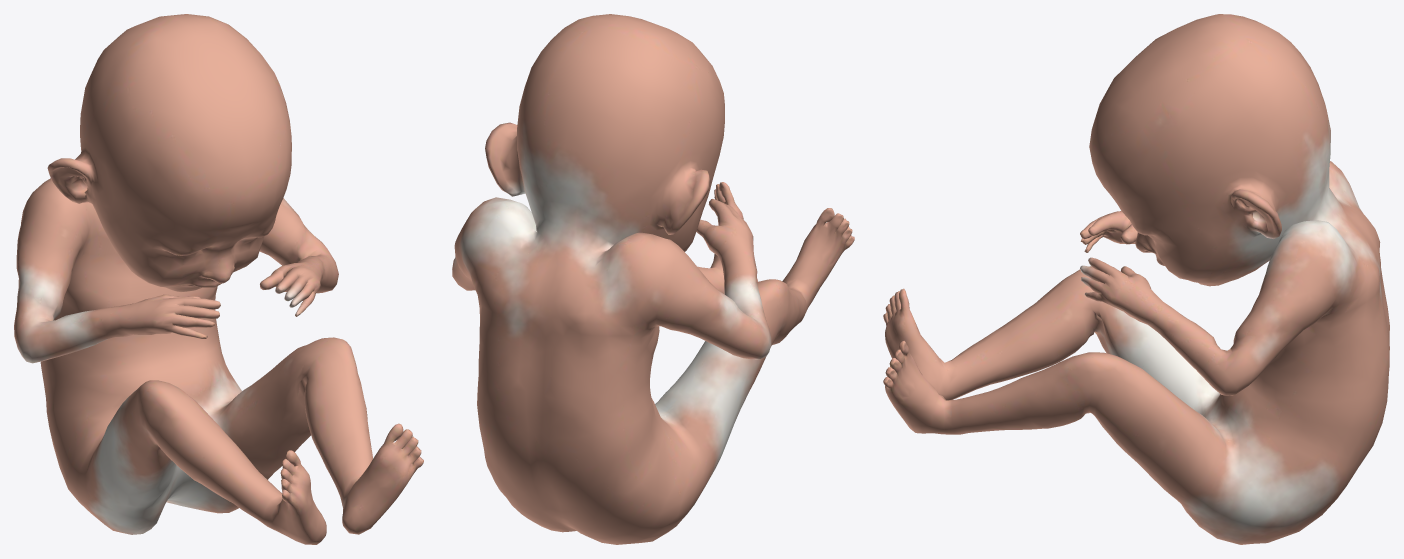
The model's file is pb-w31.8f4baa97.glb.
The picture shows the model from 3 angles, left to right: view 1: azimuth 30°, elevation 25°; view 2: azimuth 150°, elevation 25°; view 3: azimuth 270°, elevation 25°; orthographic projection.
Parts seen in each view (by area): view 1: Baby; view 2: Baby; view 3: Baby.
Part boxes in pixels (box(x1,y1,x2,y2)): Baby: box(14, 14, 423, 544); Baby: box(452, 14, 854, 544); Baby: box(883, 14, 1389, 544).
Bounding box in the file's own units: 0.1964 × 0.3 × 0.2767.
1 material, 1 textured.
